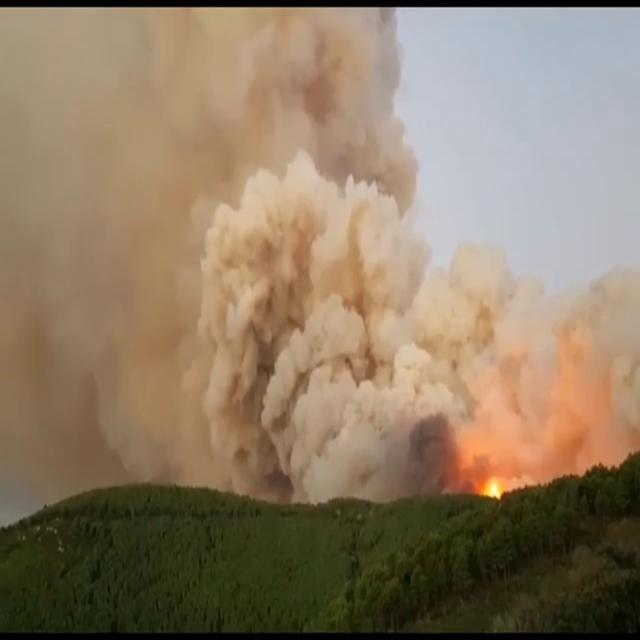Fire: (474, 462, 507, 500)
Smoke: (73, 55, 444, 418)
